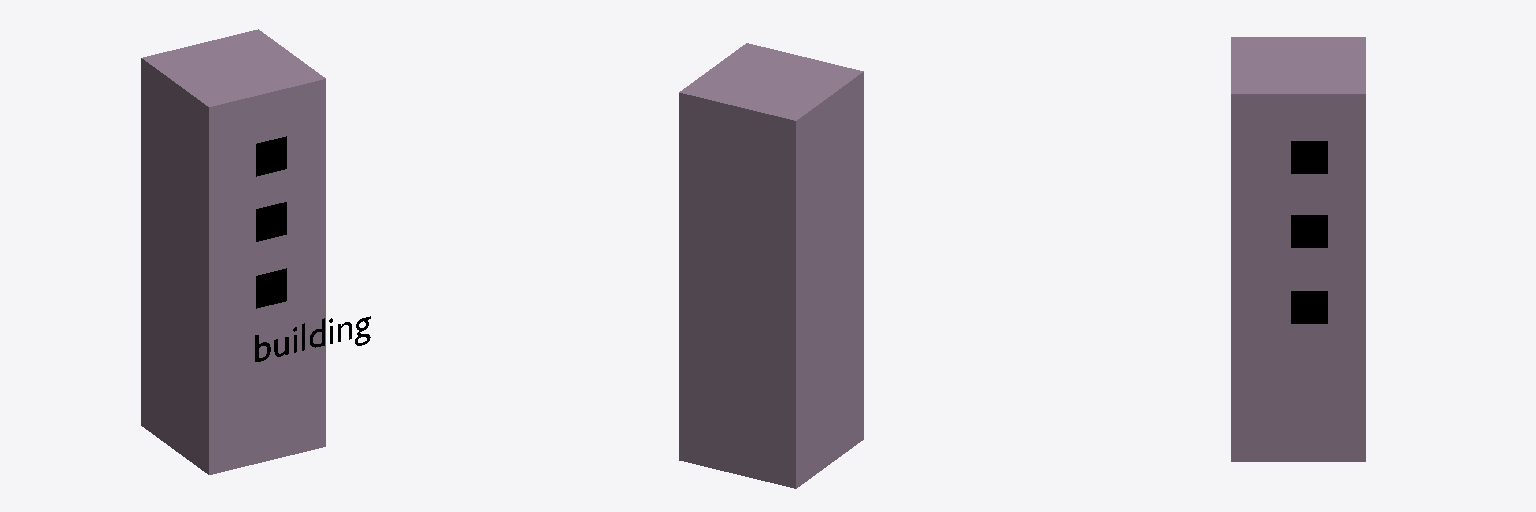
The model's file is building.obj.
3 renders of one model, left to right at view 1: azimuth 30°, elevation 25°; view 2: azimuth 150°, elevation 25°; view 3: azimuth 270°, elevation 25°, orthographic.
Parts seen in each view (by area): view 1: Cube_Cube.003, Text_Text.002, Plane.001_Plane.002, Plane.002_Plane.003, Plane.003_Plane.004; view 2: Cube_Cube.003; view 3: Cube_Cube.003, Plane_Plane.001, Plane.004_Plane.005, Plane.005_Plane.006.
Boxes of the visible parts, box(x1,y1,x2,y2) form: Cube_Cube.003: box(141, 29, 325, 474); Text_Text.002: box(255, 316, 370, 361); Plane.001_Plane.002: box(256, 202, 286, 241); Plane.002_Plane.003: box(256, 268, 286, 308); Plane.003_Plane.004: box(256, 136, 286, 176); Cube_Cube.003: box(679, 43, 863, 488); Cube_Cube.003: box(1231, 37, 1365, 461); Plane_Plane.001: box(1291, 141, 1327, 173); Plane.004_Plane.005: box(1291, 215, 1327, 247); Plane.005_Plane.006: box(1291, 291, 1327, 323).
Bounding box in the file's own units: 1.22 × 3 × 1.28.